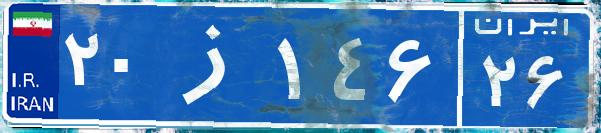0: (110, 28, 158, 105)
1: (273, 28, 330, 110)
2: (57, 26, 110, 107), (475, 38, 525, 113)
4: (330, 28, 385, 110)
6: (385, 28, 445, 110), (525, 38, 570, 115)
ز: (158, 15, 273, 115)
